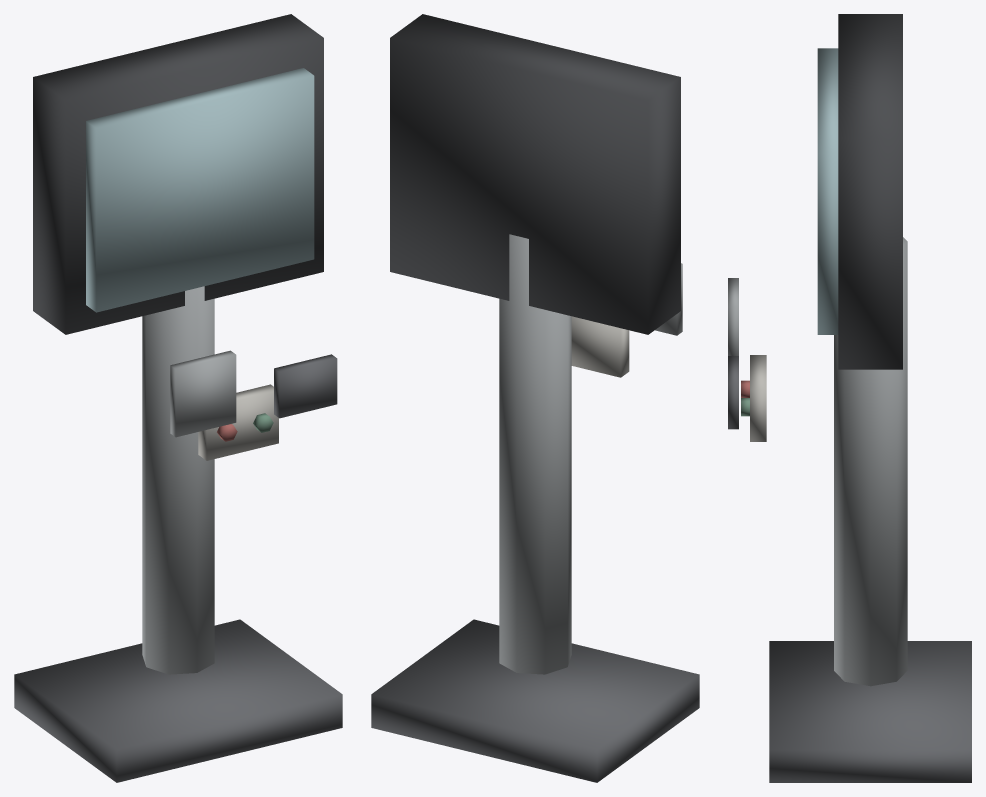
File: pos_terminal__weathered.glb
3 renders of one model, left to right at view 1: azimuth 30°, elevation 25°; view 2: azimuth 150°, elevation 25°; view 3: azimuth 270°, elevation 25°, orthographic.
Parts seen in each view (by area): view 1: world; view 2: world; view 3: world.
Boxes of the visible parts, box(x1,y1,x2,y2) form: world: box(14, 14, 342, 782); world: box(371, 14, 699, 782); world: box(728, 14, 971, 782).
Bounding box in the file's own units: 0.32 × 0.7821 × 0.265.
